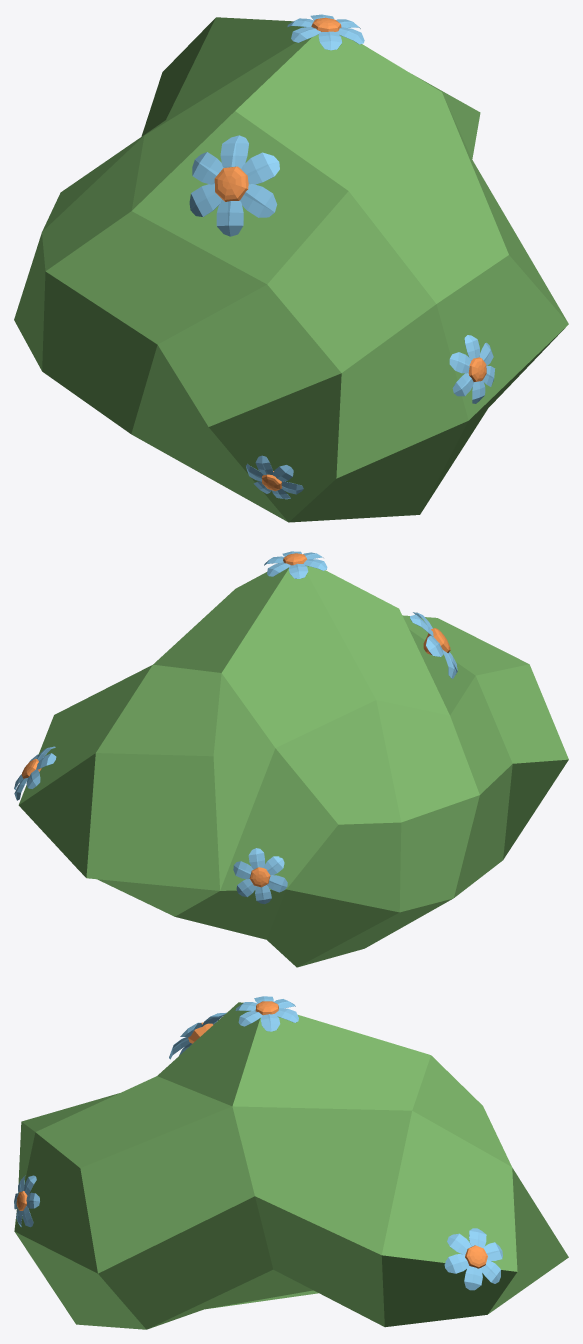
Rendered from Patio_Bush_2.fbx.
3 views of the same model, one above another, from view 1: azimuth 30°, elevation 25°; view 2: azimuth 150°, elevation 25°; view 3: azimuth 270°, elevation 25° (orthographic). The views are drawn at different scales.
Parts seen in each view (by area): view 1: Patio_Bush_2; view 2: Patio_Bush_2; view 3: Patio_Bush_2.
Boxes of the visible parts, x1,y1,x2,y2 form: Patio_Bush_2: (14, 14, 568, 522); Patio_Bush_2: (14, 551, 568, 967); Patio_Bush_2: (14, 996, 568, 1329).
Size of the model in its own units: 103 by 127 by 85.59.
